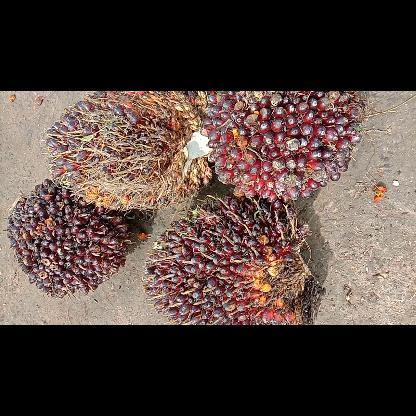Kurang masak: (144, 194, 324, 324), (42, 90, 212, 212), (200, 91, 364, 203), (6, 178, 134, 296)
